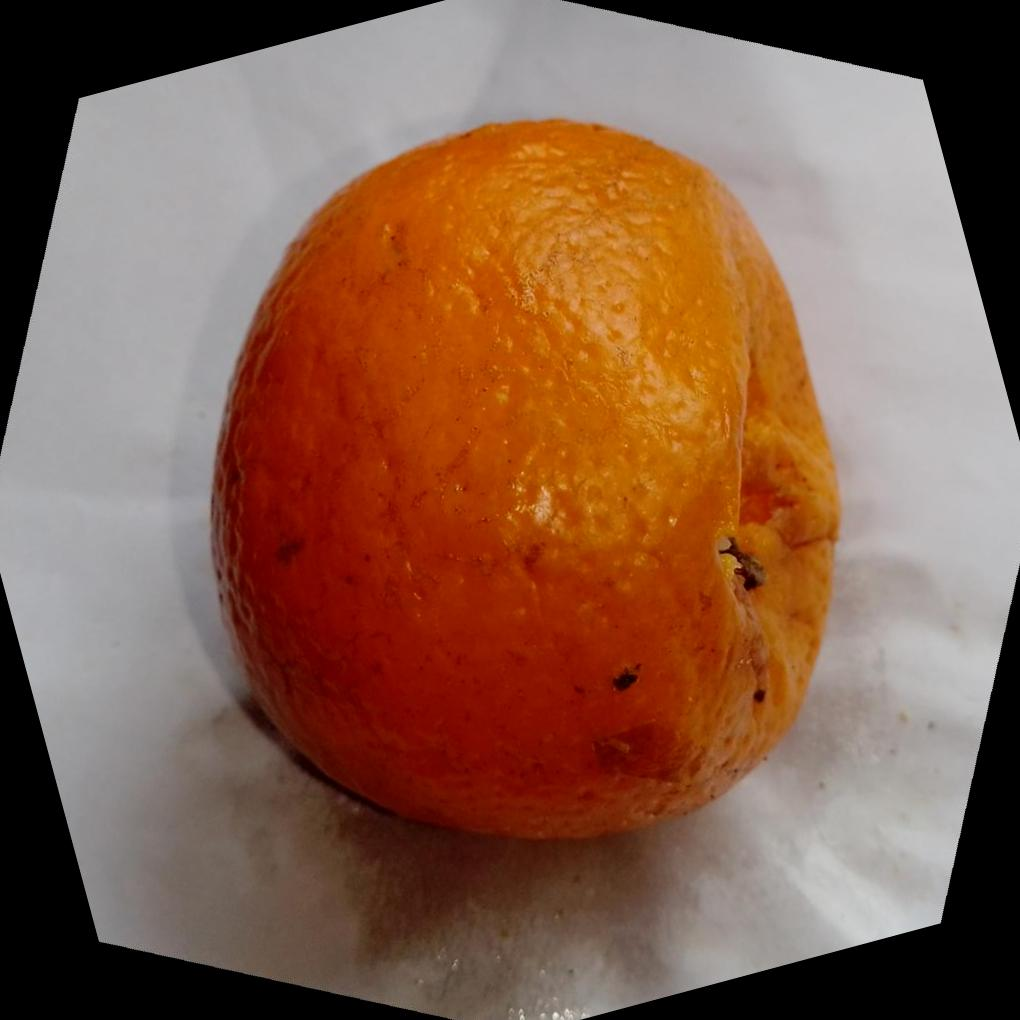FreshOrange: (204, 115, 840, 843)
